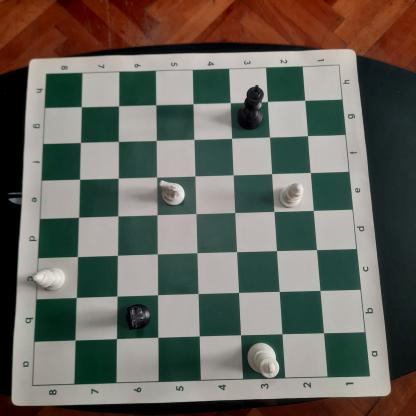black-king: (236, 82, 268, 132)
black-knight: (124, 299, 155, 333)
white-bishop: (32, 262, 68, 294), (276, 180, 308, 210)
white-king: (245, 337, 281, 381)
white-knight: (157, 179, 189, 208)
